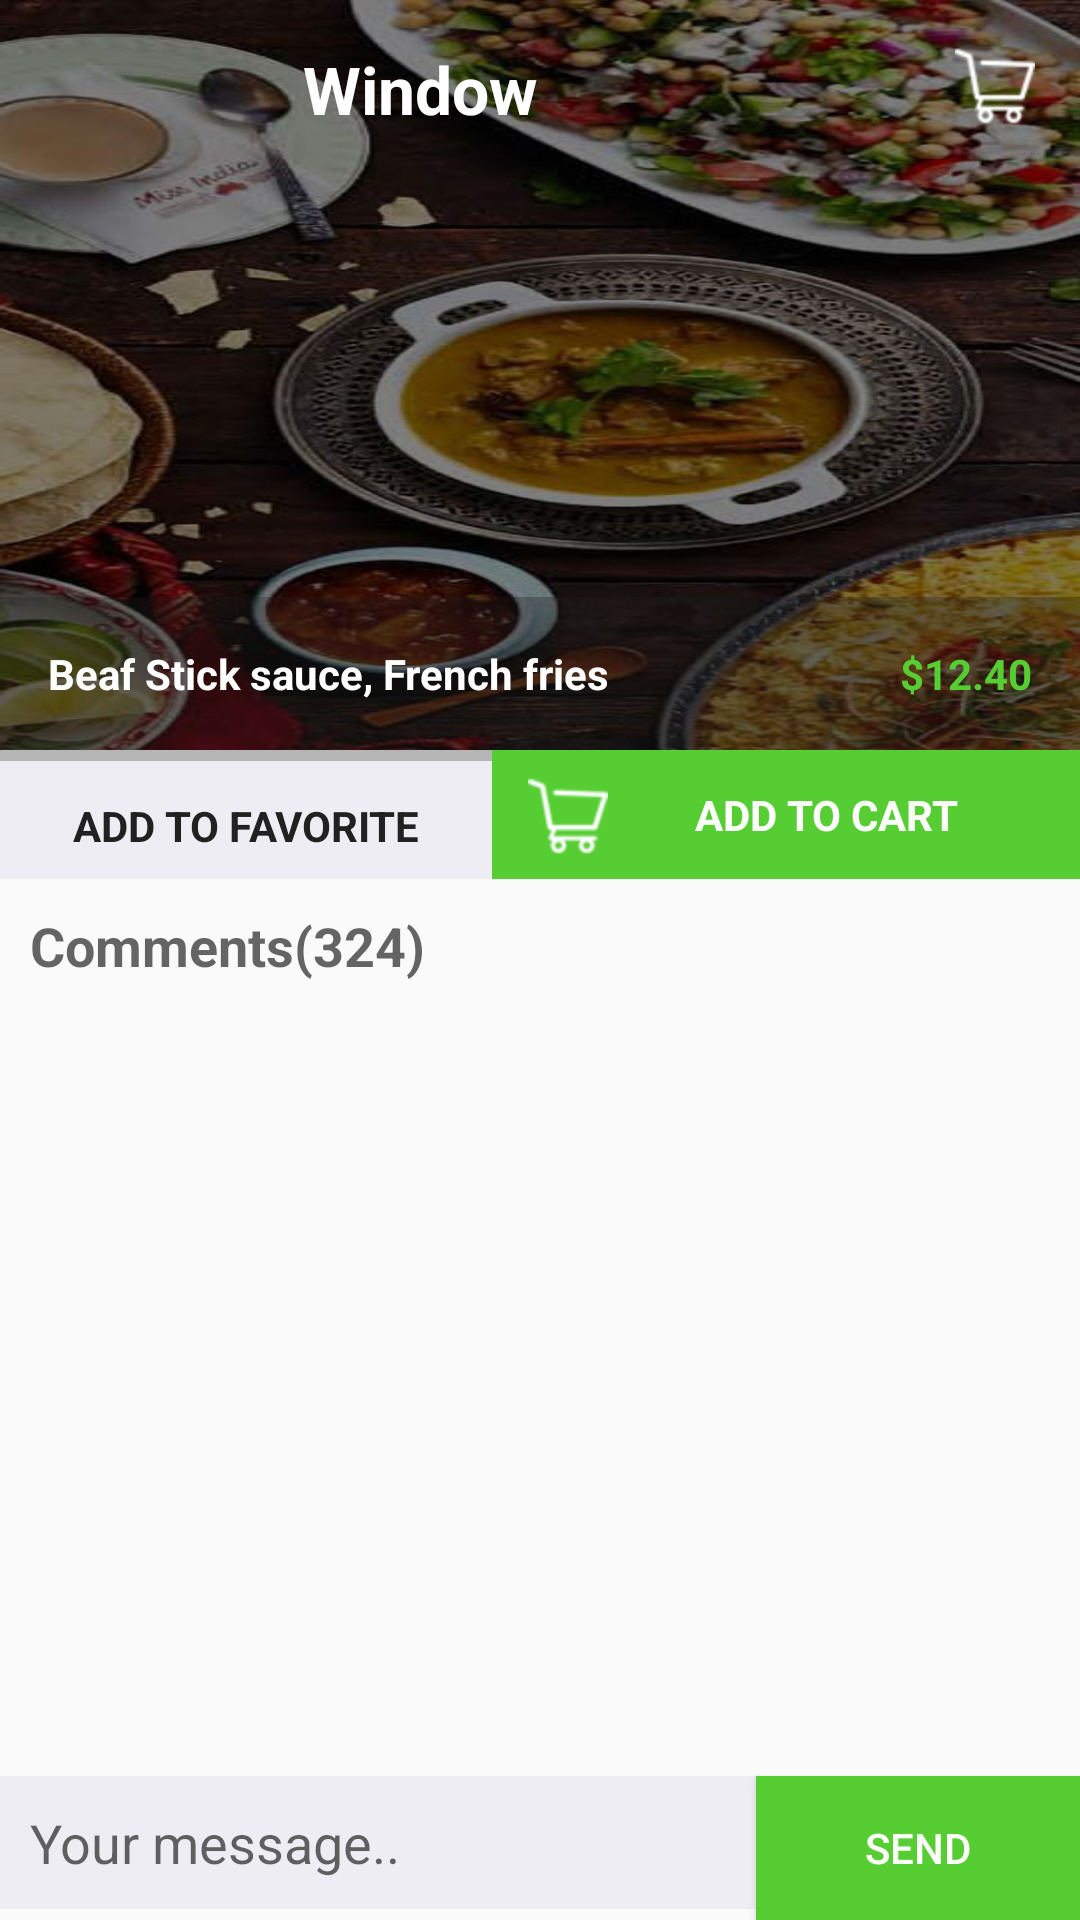

Where to tap for icons on this 1080 × 1920 app screen, as (x,y):
mycart: (995,85)
